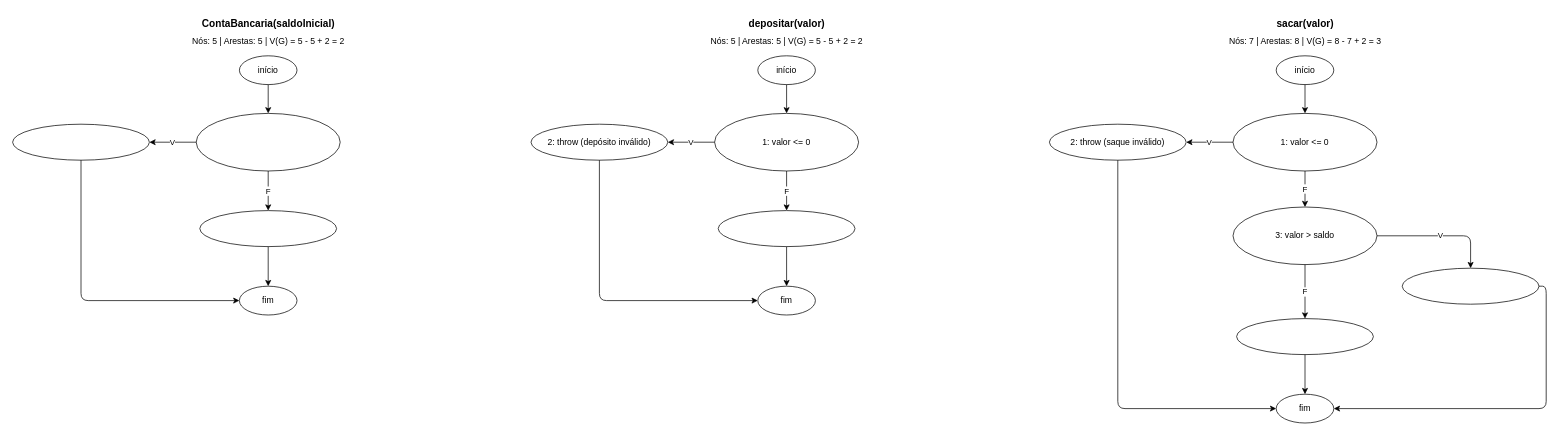
This 1565x436 diagram has some shape labels left out. Here are the shapes that lost their labels. From the top down, the box of each, then its label:
(12, 123, 149, 160): 2: throw (saldo negativo)
(195, 113, 340, 171): 1: saldoInicial < 0
(199, 210, 337, 247): 3: saldo = saldoInicial
(717, 210, 855, 247): 3: saldo += valor
(1401, 267, 1539, 304): 4: throw (saldo insuficiente)
(1236, 318, 1373, 355): 5: saldo -= valor
